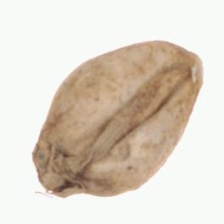L1: (30, 146, 86, 197)
L2: (32, 39, 203, 200)
